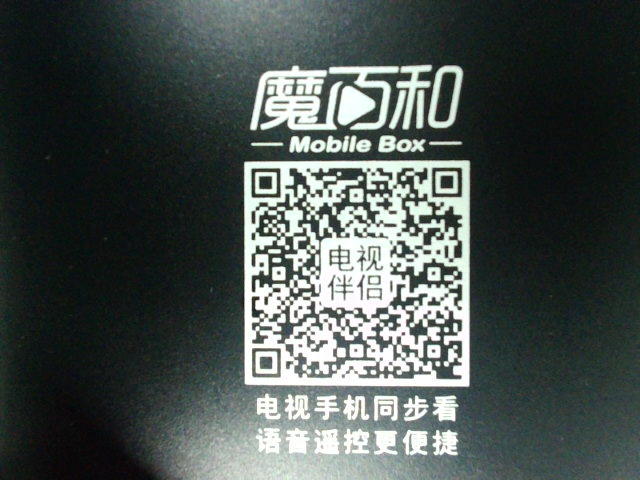AZ_MobileBox: (226, 55, 485, 460)
